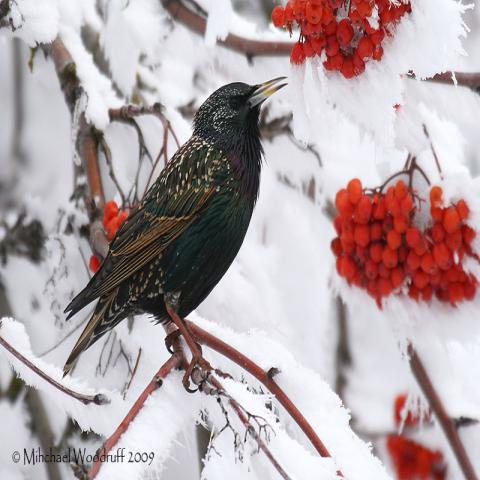bird: (60, 73, 290, 391)
